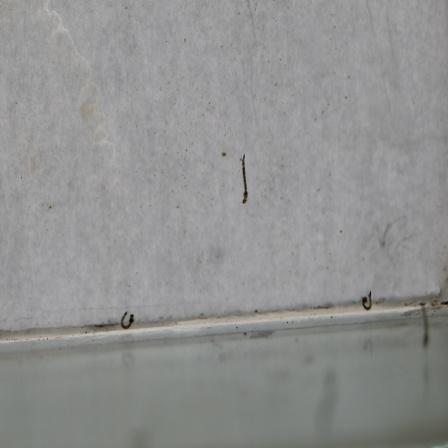Jentik-Nyamuk: (237, 151, 251, 207), (114, 309, 137, 329), (359, 288, 375, 313)
